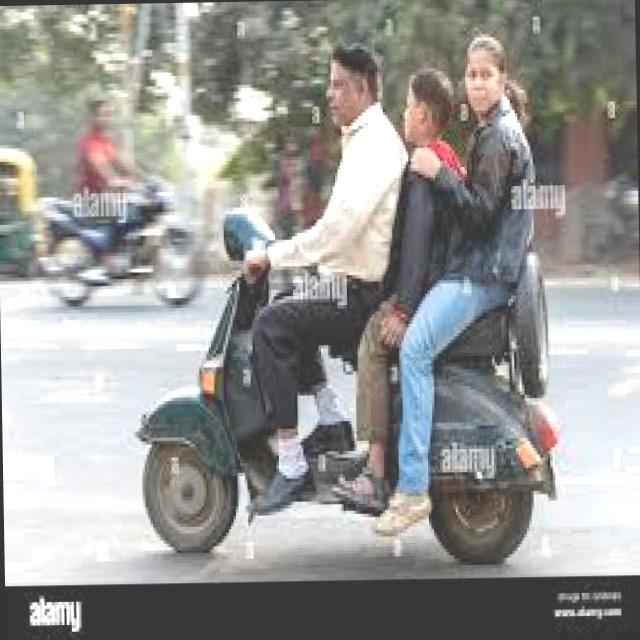motorcycle: (121, 202, 571, 570)
person: (445, 24, 557, 346), (299, 37, 402, 344), (380, 65, 480, 344)
rider_region: (131, 38, 564, 564)
